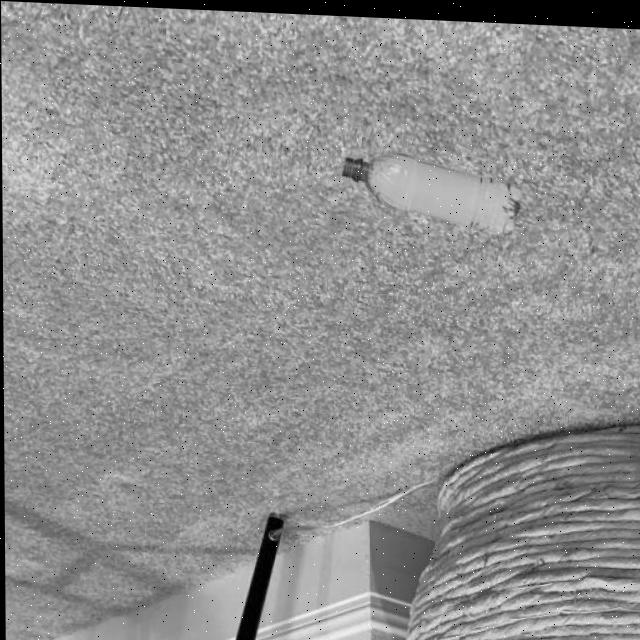bottle: (340, 146, 524, 233)
